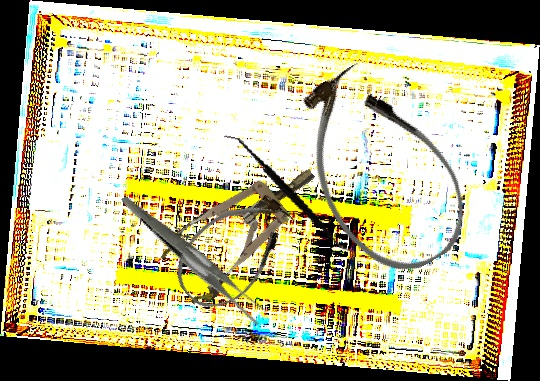Cannula: (273, 48, 488, 292), (160, 177, 309, 324)
Dressing Forceps: (121, 164, 271, 352)
Spatula Surgical: (205, 135, 373, 253)
Speculum: (152, 144, 336, 311)
